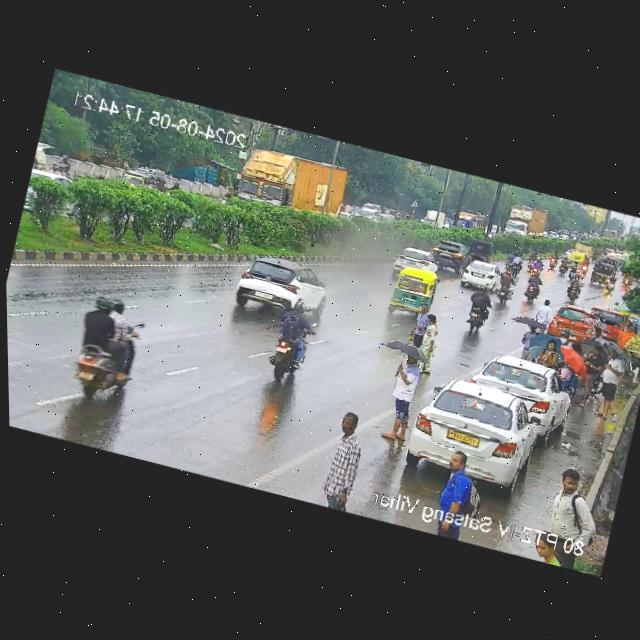bus: (594, 226, 619, 248)
car: (395, 368, 564, 498), (466, 348, 576, 426), (225, 251, 330, 323), (387, 263, 442, 318), (544, 300, 601, 345), (451, 256, 508, 294), (115, 164, 171, 194), (392, 242, 442, 272), (583, 254, 620, 291), (428, 249, 467, 275), (428, 238, 470, 262), (464, 235, 496, 262), (561, 241, 591, 265), (593, 246, 607, 261)
motorcycle: (57, 289, 146, 403), (260, 302, 318, 387), (458, 285, 499, 333), (545, 248, 588, 279), (517, 270, 545, 304), (560, 274, 585, 303), (499, 248, 526, 274), (49, 150, 72, 177), (522, 250, 545, 274), (601, 268, 617, 295), (619, 273, 632, 287)
person: (318, 401, 377, 510), (535, 461, 607, 548), (378, 346, 428, 444), (429, 451, 487, 519), (568, 340, 608, 415), (590, 346, 629, 414), (407, 303, 446, 351), (515, 321, 552, 368), (453, 206, 492, 232), (535, 335, 562, 369), (614, 321, 636, 348)
truck: (229, 140, 359, 225), (490, 199, 552, 244)
